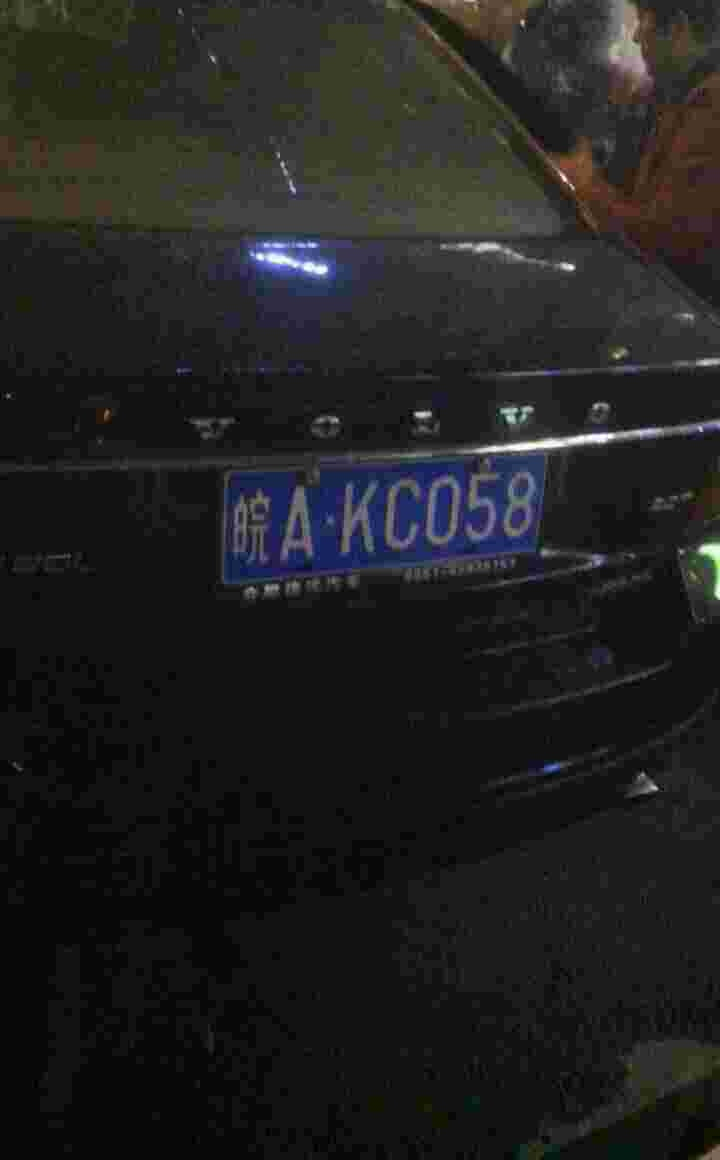license_plate: (227, 456, 548, 588)
